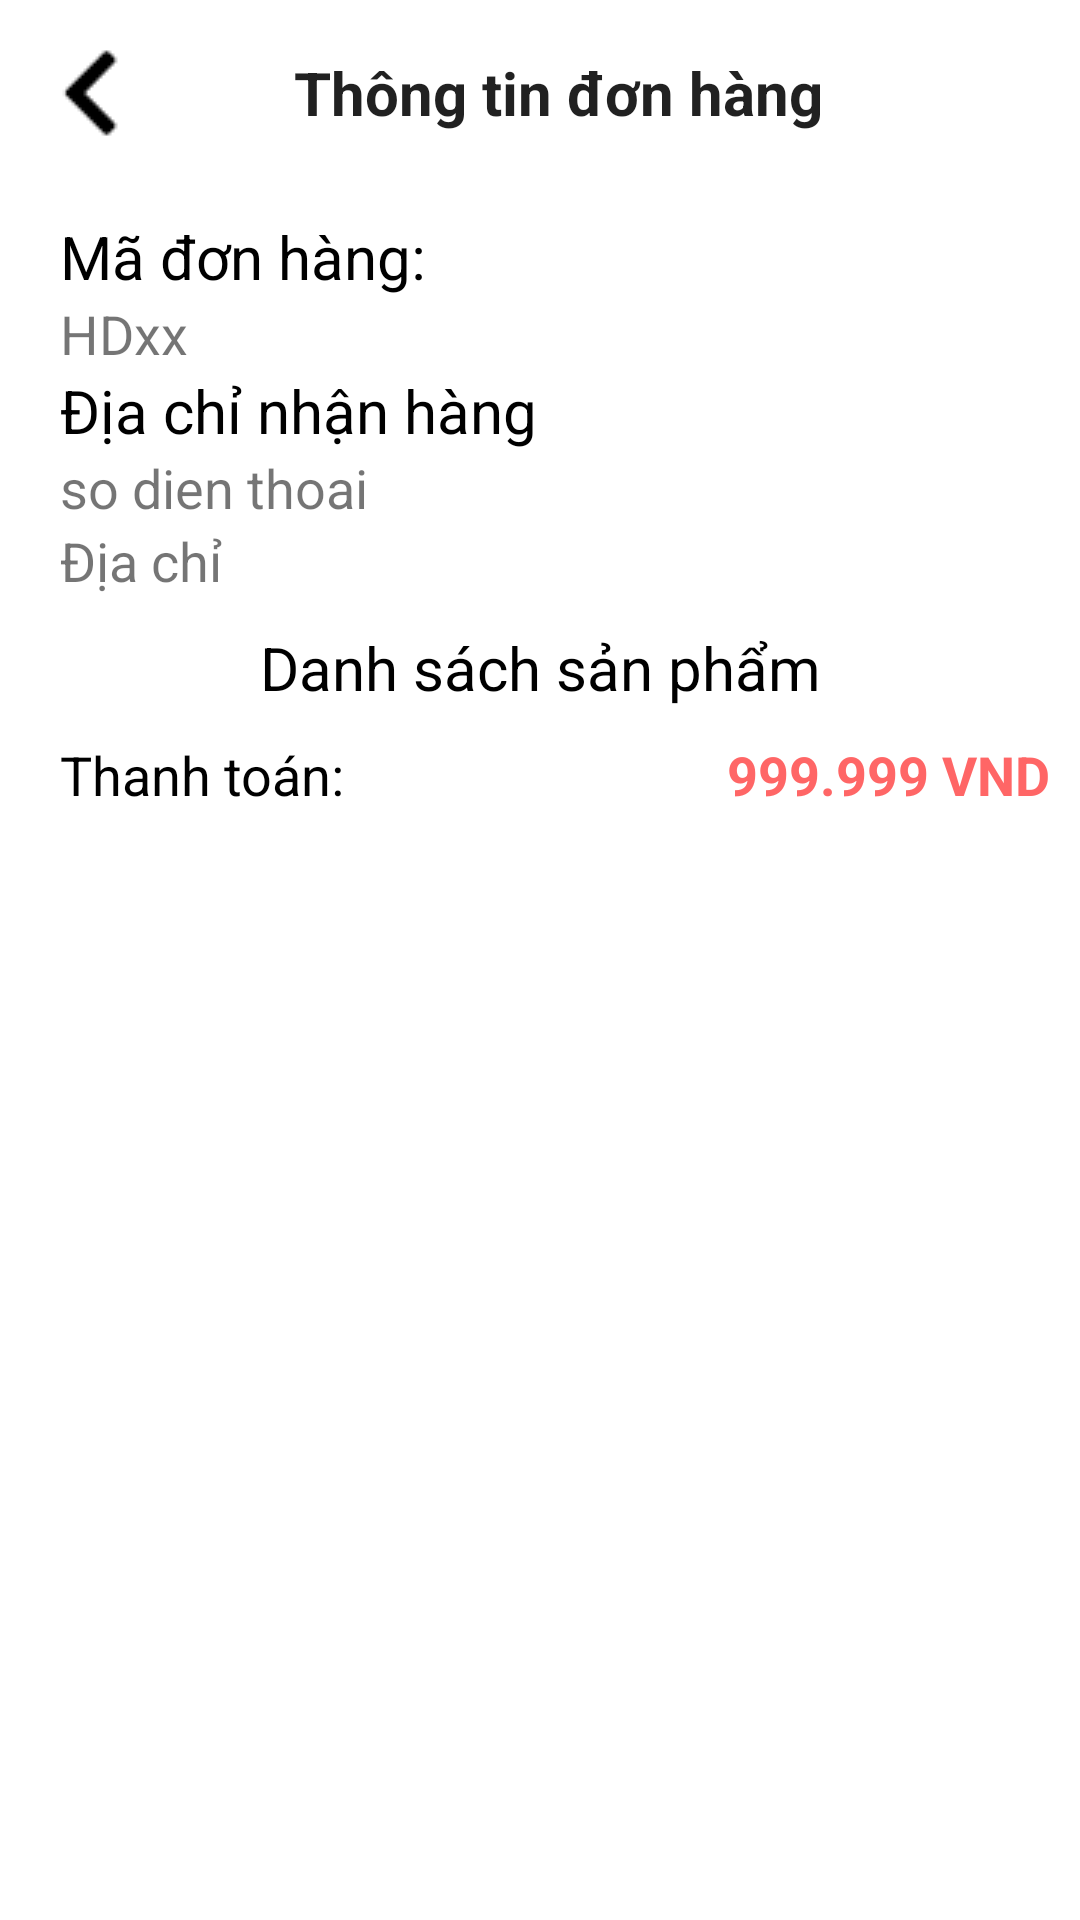

Icons on this 1080 × 1920 Android screen, each with the point to tap as point (x, y):
Comeback to main store: point (91, 93)
